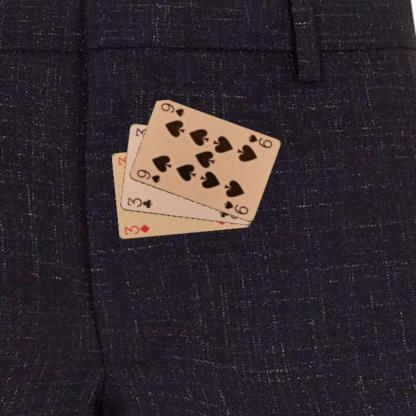3c: (124, 196, 154, 210)
3d: (121, 222, 151, 236)
9s: (134, 166, 161, 184), (246, 132, 273, 150)
